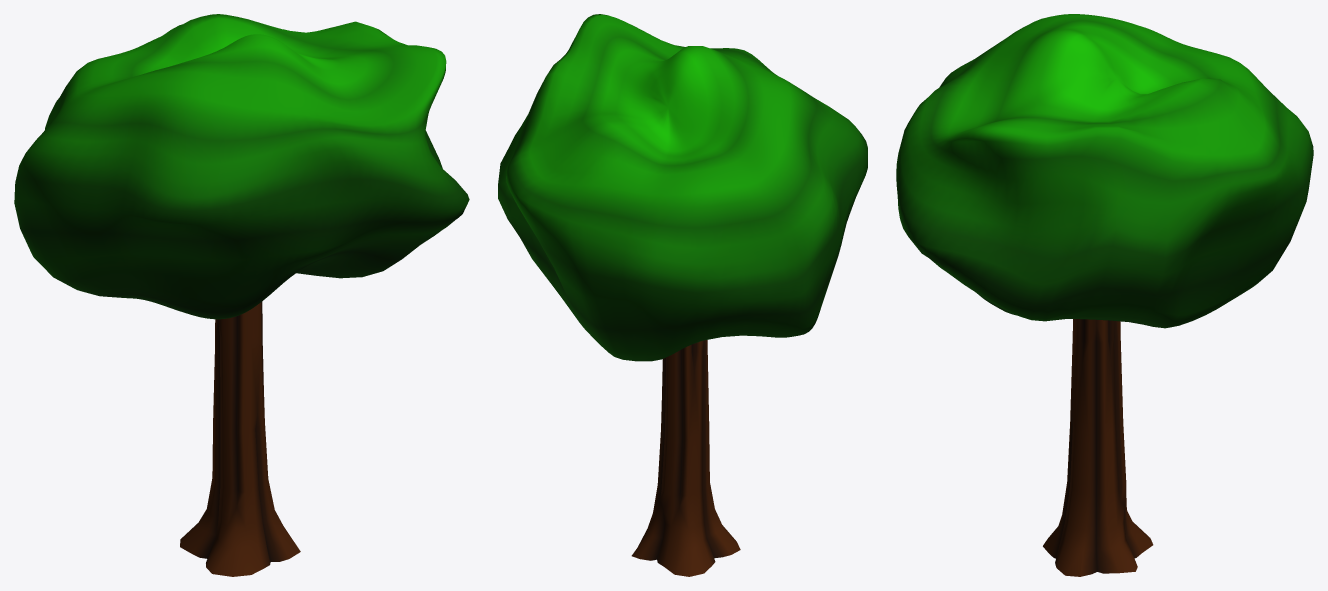
File: Straight Tree 2.fbx
3 renders of one model, left to right at view 1: azimuth 30°, elevation 25°; view 2: azimuth 150°, elevation 25°; view 3: azimuth 270°, elevation 25°, orthographic. The views are drawn at different scales.
Visible parts, largest first — view 1: polySurface123; view 2: polySurface123; view 3: polySurface123.
Part boxes in pixels (x1,y1,x2,y2): polySurface123: [14, 14, 469, 576]; polySurface123: [498, 14, 867, 576]; polySurface123: [896, 14, 1313, 576].
Bounding box in the file's own units: 10.45 × 14.31 × 10.37.
